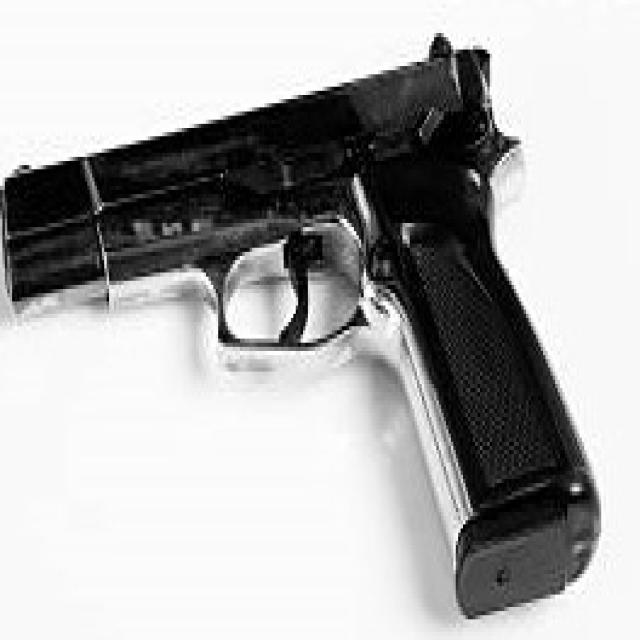pistol: (1, 26, 607, 623)
